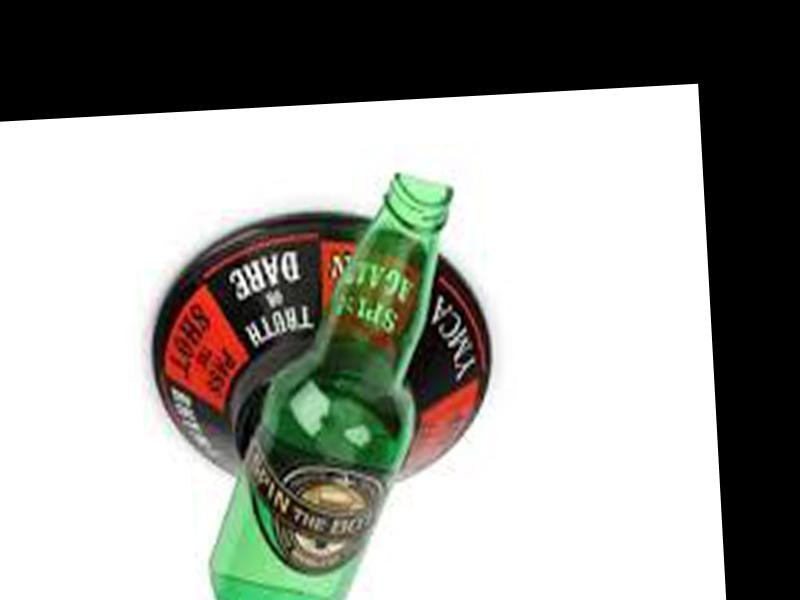Beer: (185, 169, 474, 600)
